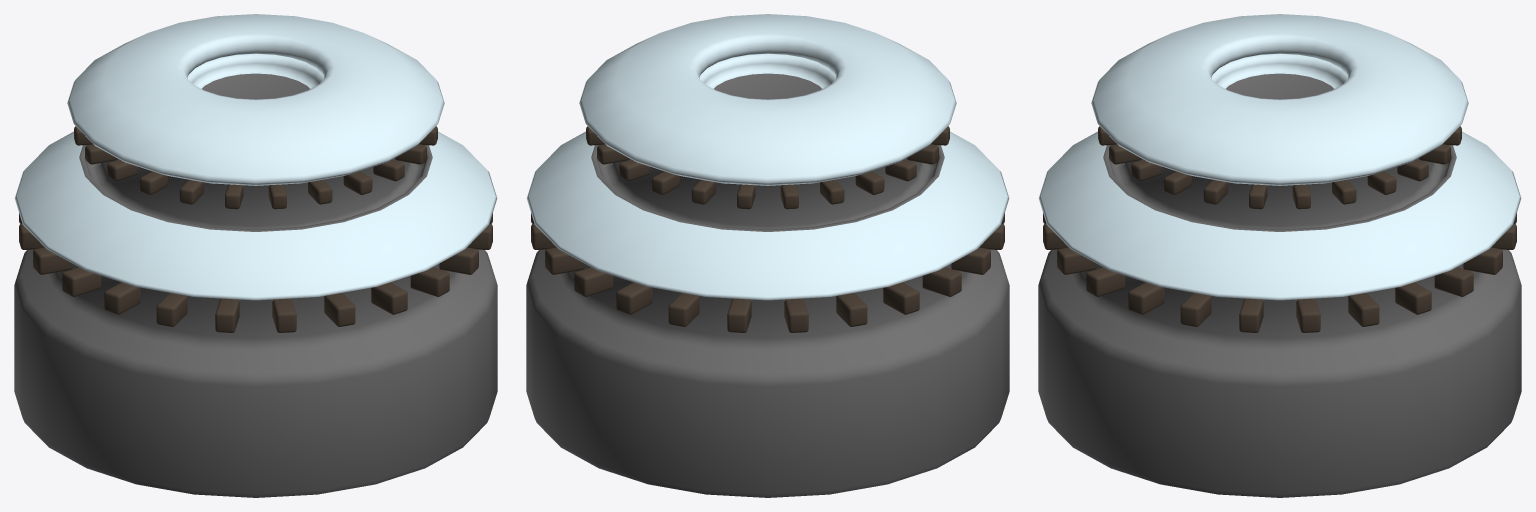
File: Estructura(Base).fbx
The picture shows the model from 3 angles, left to right: view 1: azimuth 30°, elevation 25°; view 2: azimuth 150°, elevation 25°; view 3: azimuth 270°, elevation 25°; orthographic projection.
Visible parts, largest first — view 1: Choza; view 2: Choza; view 3: Choza.
Part boxes in pixels (left/top/right/bottom): Choza: left=14, top=14, right=497, bottom=497; Choza: left=526, top=14, right=1009, bottom=497; Choza: left=1038, top=14, right=1521, bottom=497.
Bounding box in the file's own units: 189 × 143 × 189.
